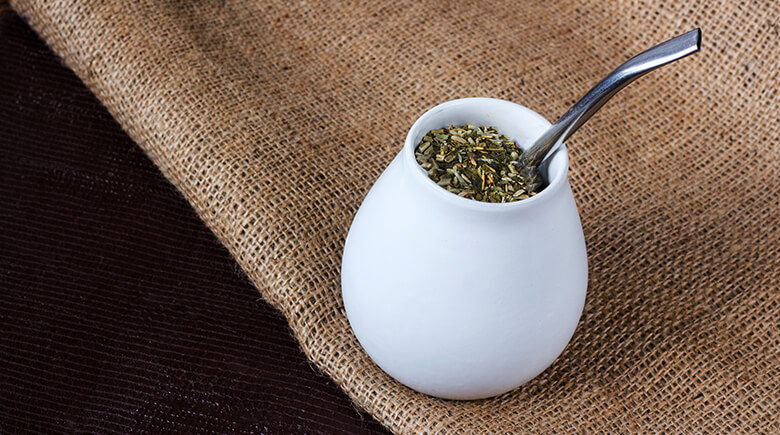guampa: (340, 16, 701, 398)
